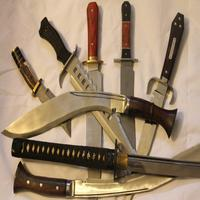knife: (38, 16, 140, 165), (10, 126, 180, 200), (113, 1, 178, 179), (9, 45, 75, 151)
